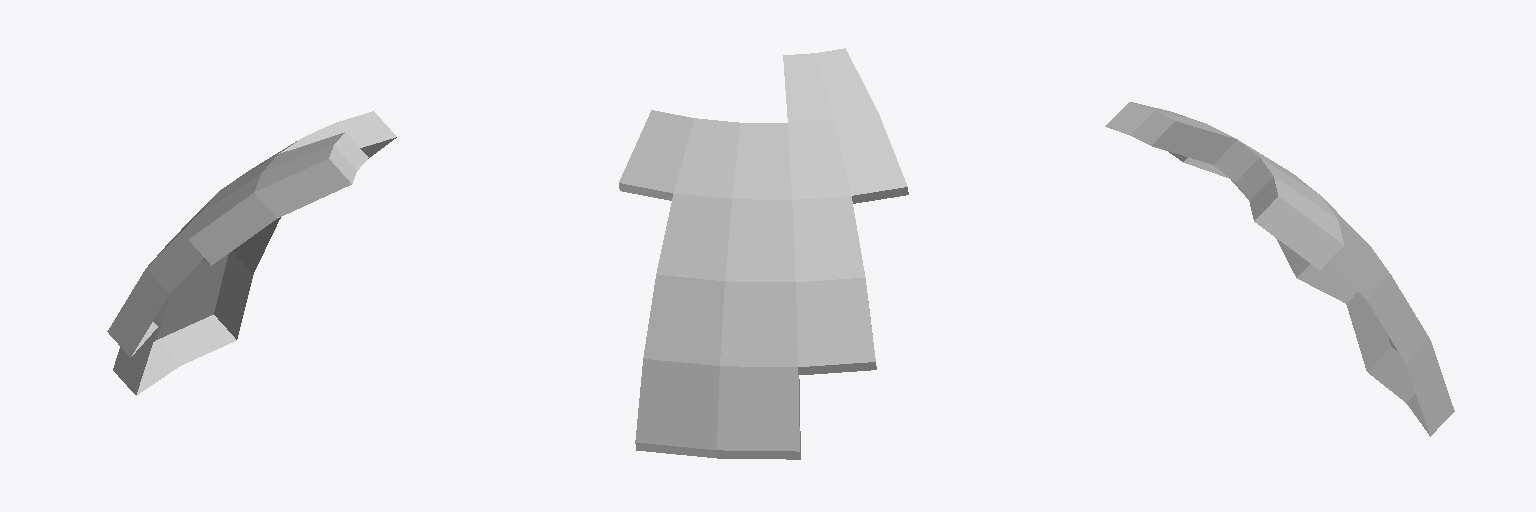
The model's file is cont2.obj.
3 renders of one model, left to right at view 1: azimuth 30°, elevation 25°; view 2: azimuth 150°, elevation 25°; view 3: azimuth 270°, elevation 25°, orthographic.
Parts seen in each view (by area): view 1: Cont2; view 2: Cont2; view 3: Cont2.
Boxes of the visible parts, <box> form: Cont2: <box>107,111,396,395</box>; Cont2: <box>619,48,908,459</box>; Cont2: <box>1105,102,1454,436</box>.
Size of the model in its own units: 182 by 208 by 215.